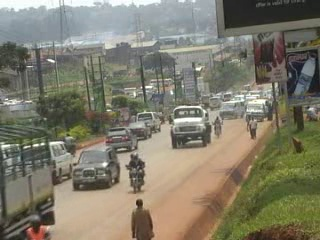Car: (70, 144, 122, 191), (103, 125, 139, 154), (124, 119, 153, 140)
Motorcycle: (124, 152, 147, 194), (20, 212, 56, 238), (61, 131, 77, 155), (211, 114, 225, 139)
